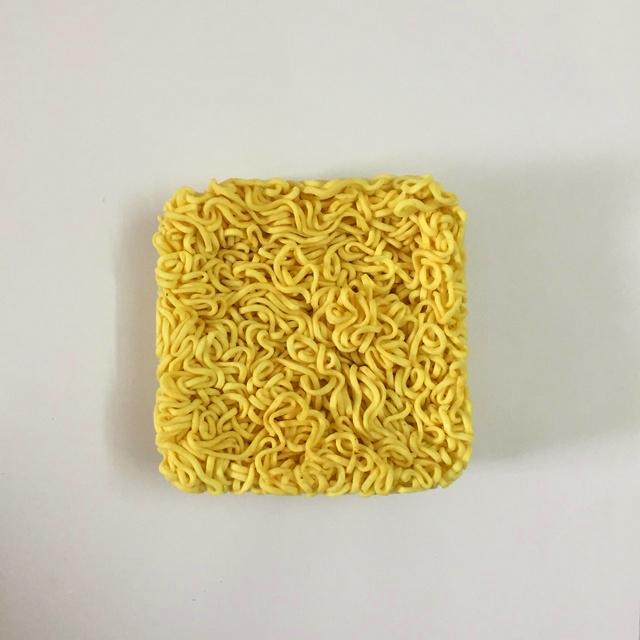noodles: (143, 166, 481, 508)
